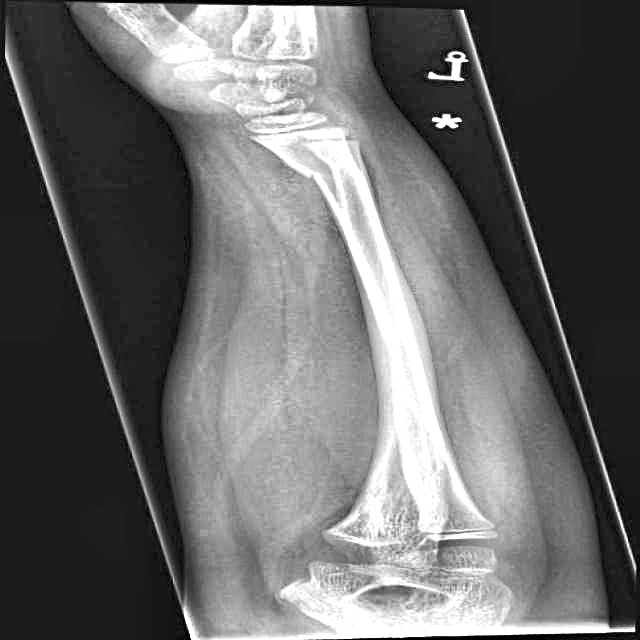Greenstick: (249, 146, 395, 195)
